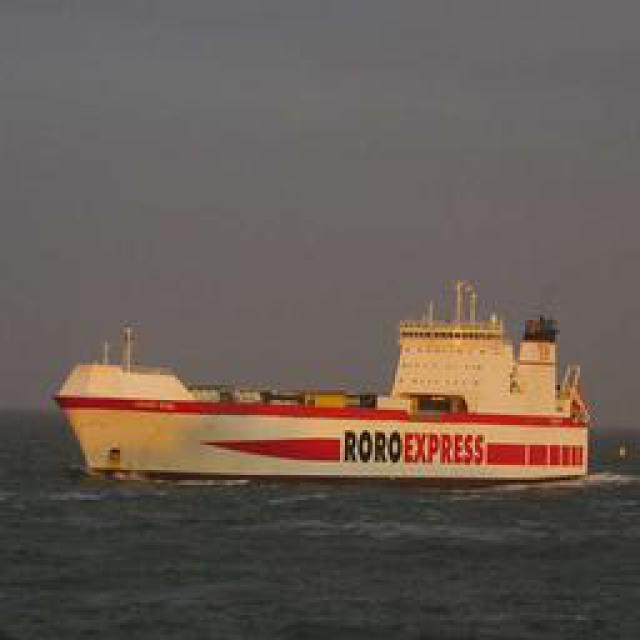Ship: (51, 336, 591, 489)
